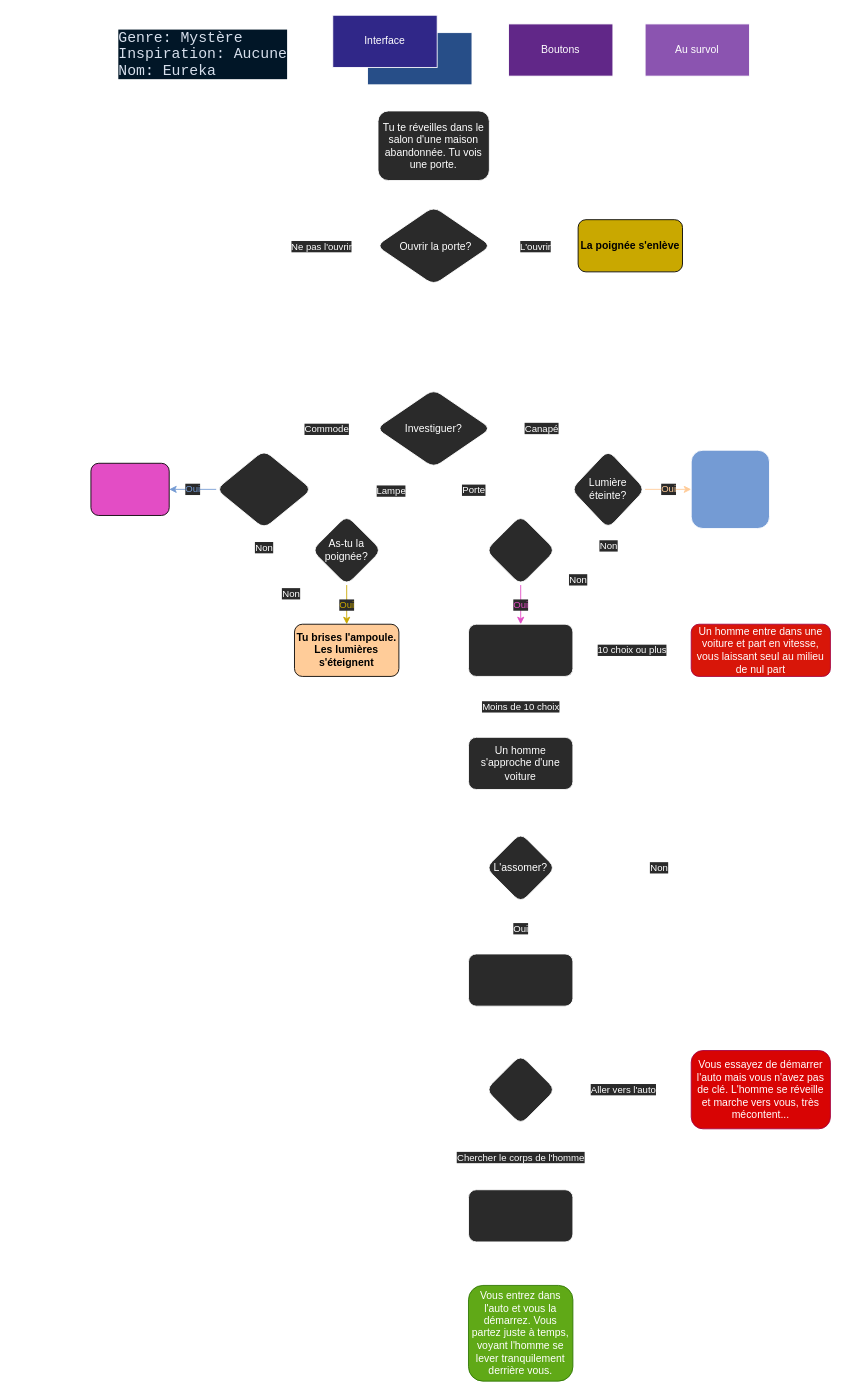
This 853x1396 diagram has some shape labels left out. Here are the shapes that lost their labels. From the top down, the box of each, then its label:
(90, 462, 169, 515): Clé à l'intérieur d'un tiroir
(215, 449, 312, 529): As-tu le code? (4 chiffres)
(690, 449, 770, 529): Code écrit sur le canapé (Encre qui brille dans le noir)
(485, 515, 555, 585): As-tu la clé?
(468, 623, 573, 676): T'ouvres la porte
(468, 953, 573, 1006): Il s'écroule au sol
(485, 1054, 555, 1124): Que faire?
(468, 1189, 573, 1242): Vous trouvez des clés d'auto
